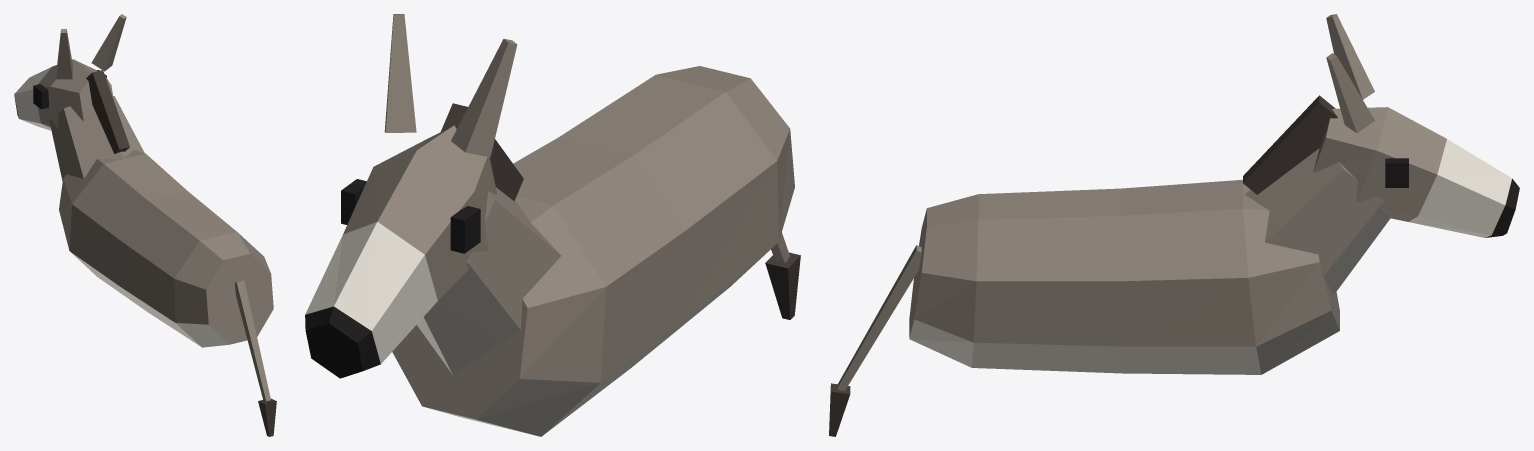
The model's file is animal_donkey.obj.
3 renders of one model, left to right at view 1: azimuth 30°, elevation 25°; view 2: azimuth 150°, elevation 25°; view 3: azimuth 270°, elevation 25°, orthographic. The views are drawn at different scales.
Visible parts, largest first — view 1: animal_donkey; view 2: animal_donkey; view 3: animal_donkey.
Part boxes in pixels (bbox=[...]): animal_donkey: bbox=[14, 14, 276, 436]; animal_donkey: bbox=[305, 14, 800, 436]; animal_donkey: bbox=[829, 14, 1519, 436].
Bounding box in the file's own units: 0.3892 × 1.04 × 1.63.
